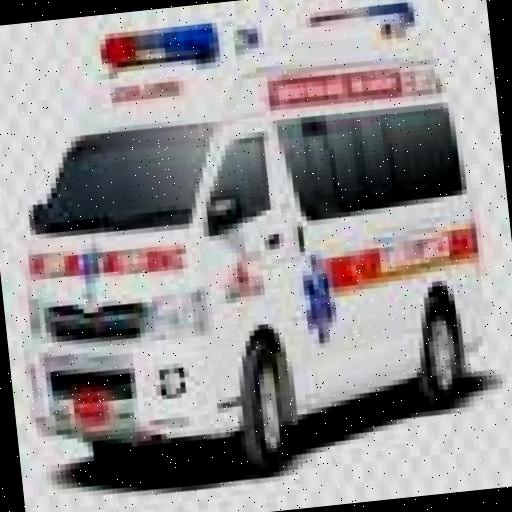Police car: (0, 0, 507, 499)
